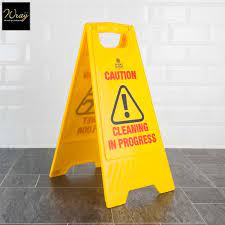wet caution sign: (52, 16, 176, 196)
